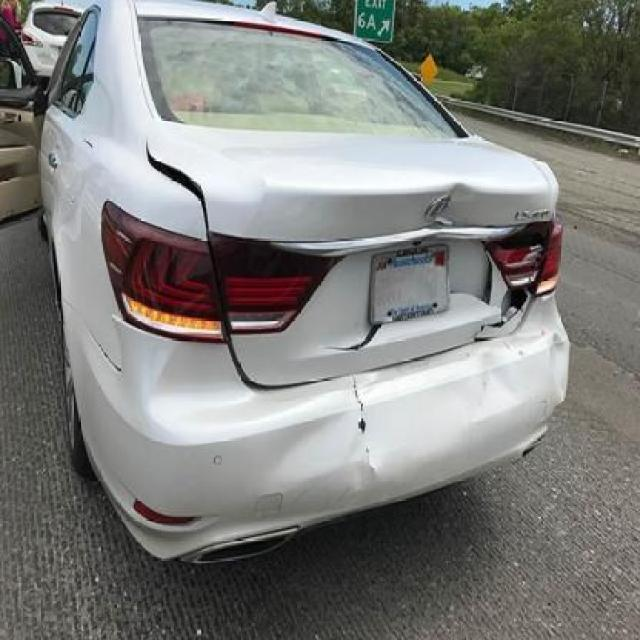minor: (274, 365, 458, 478), (475, 354, 557, 422)
moderate: (231, 183, 554, 386)
